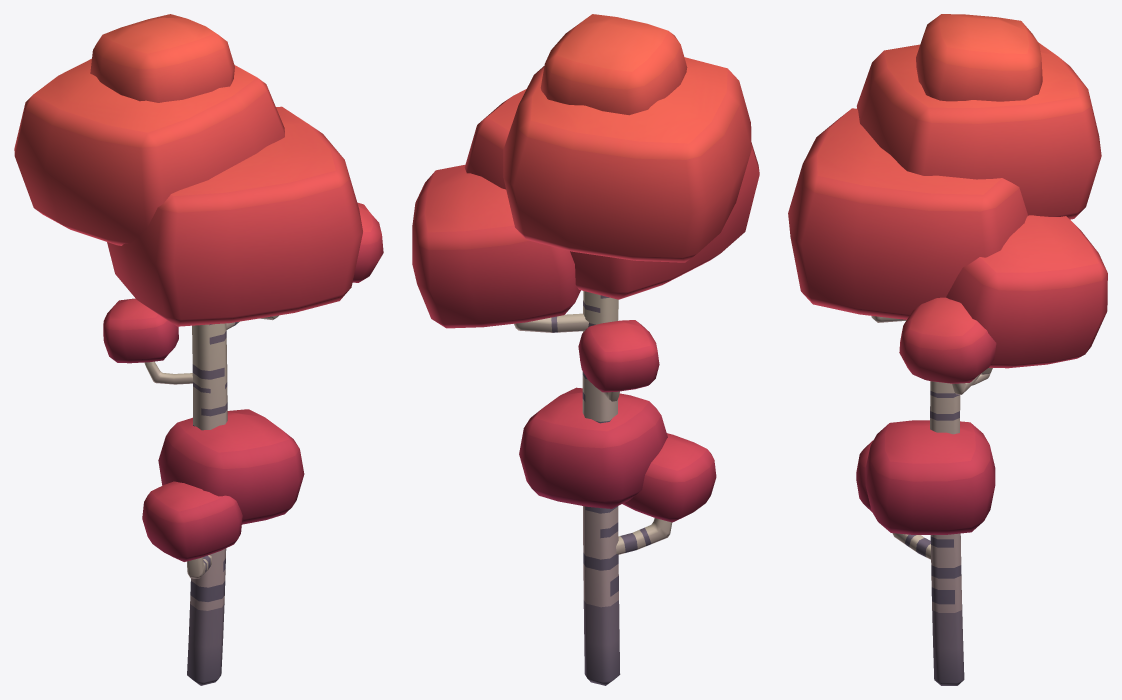
The model's file is birch_tree_SC_02.fbx.
3 renders of one model, left to right at view 1: azimuth 30°, elevation 25°; view 2: azimuth 150°, elevation 25°; view 3: azimuth 270°, elevation 25°, orthographic. The views are drawn at different scales.
Parts seen in each view (by area): view 1: birch_tree_SC_02; view 2: birch_tree_SC_02; view 3: birch_tree_SC_02.
Part boxes in pixels (x1=…): birch_tree_SC_02: x1=14, y1=14, x2=383, y2=685; birch_tree_SC_02: x1=412, y1=14, x2=759, y2=685; birch_tree_SC_02: x1=788, y1=14, x2=1107, y2=685.
Bounding box in the file's own units: 612 × 1187 × 533.
1 material, 1 textured.
